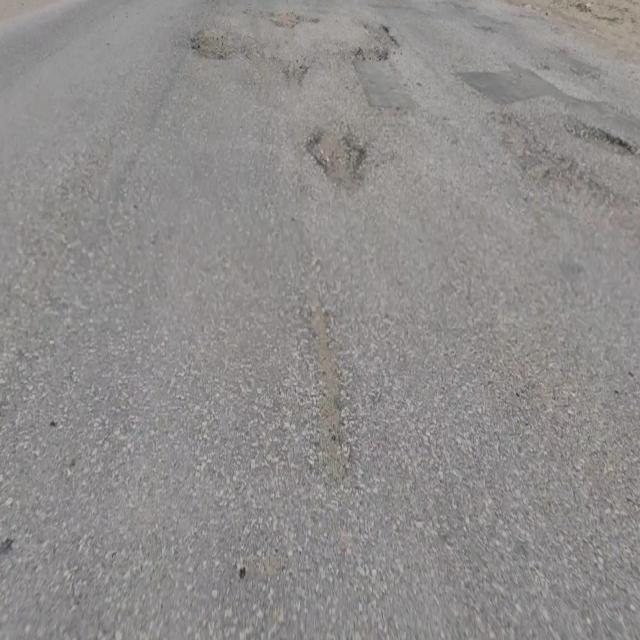Potholes: (307, 123, 363, 183), (188, 26, 247, 65), (352, 44, 390, 63), (270, 12, 302, 29)
